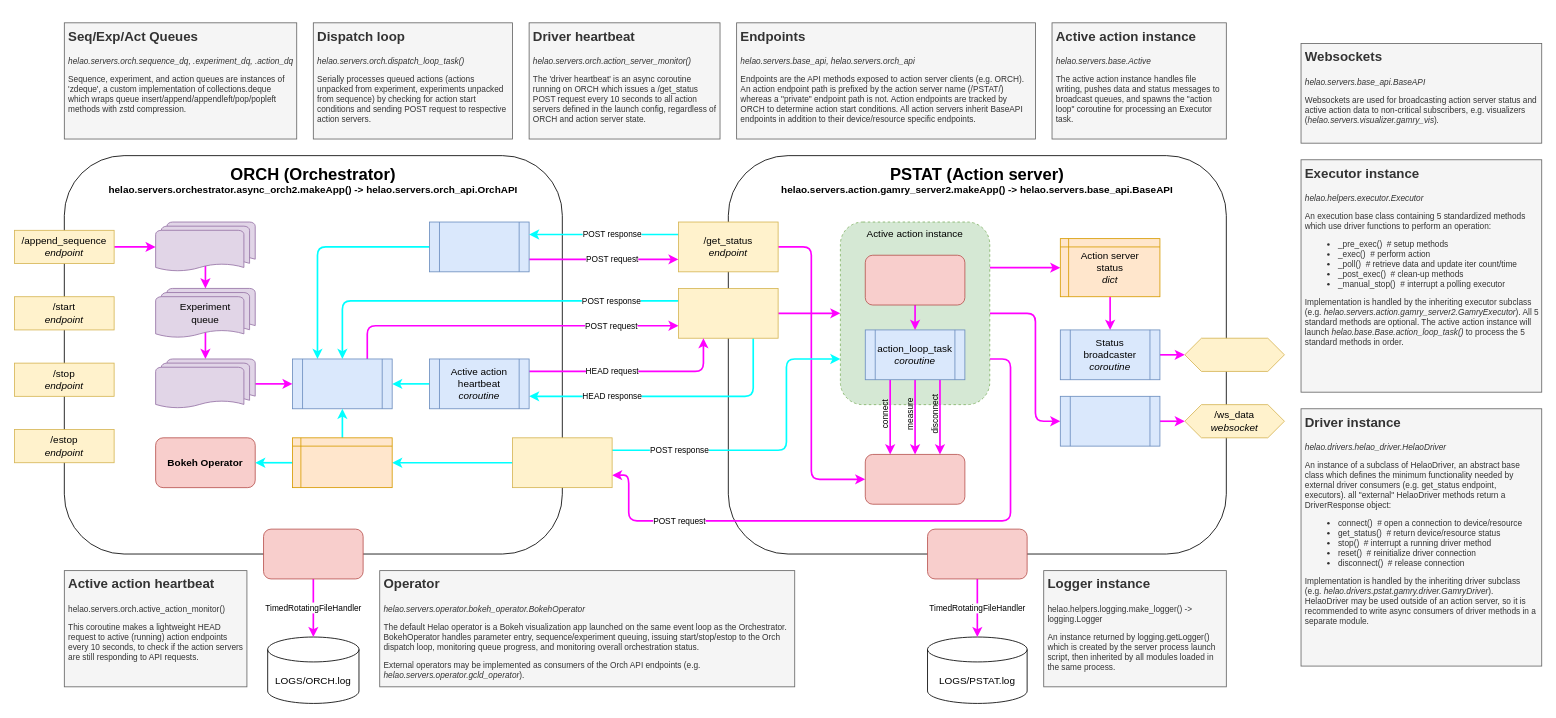
Some shapes in this 1556 by 718 pixel diagram are drawn without their labels. Here are the shapes that lost their labels. From the top down, the centre of each, then its label:
At [205,246]: "Sequence queue".
At [479,246]: "Driver heartbeat coroutine".
At [914,279]: "run_CV executor instance".
At [728,313]: "/PSTAT/run_CV endpoint".
At [1234,354]: "/ws_status websocket".
At [205,383]: "Action queue".
At [342,383]: "Dispatch loop coroutine".
At [1109,420]: "Data broadcaster coroutine".
At [342,462]: "Global status dict".
At [562,462]: "/update_status endpoint".
At [914,479]: "Gamry driver instance".
At [313,553]: "ORCH logger instance".
At [977,553]: "PSTAT logger instance".
